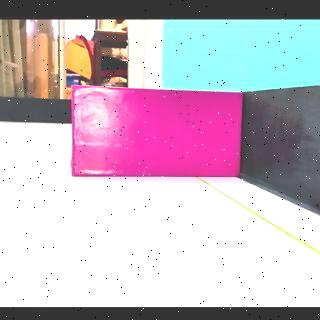xparking: (74, 89, 240, 178)
